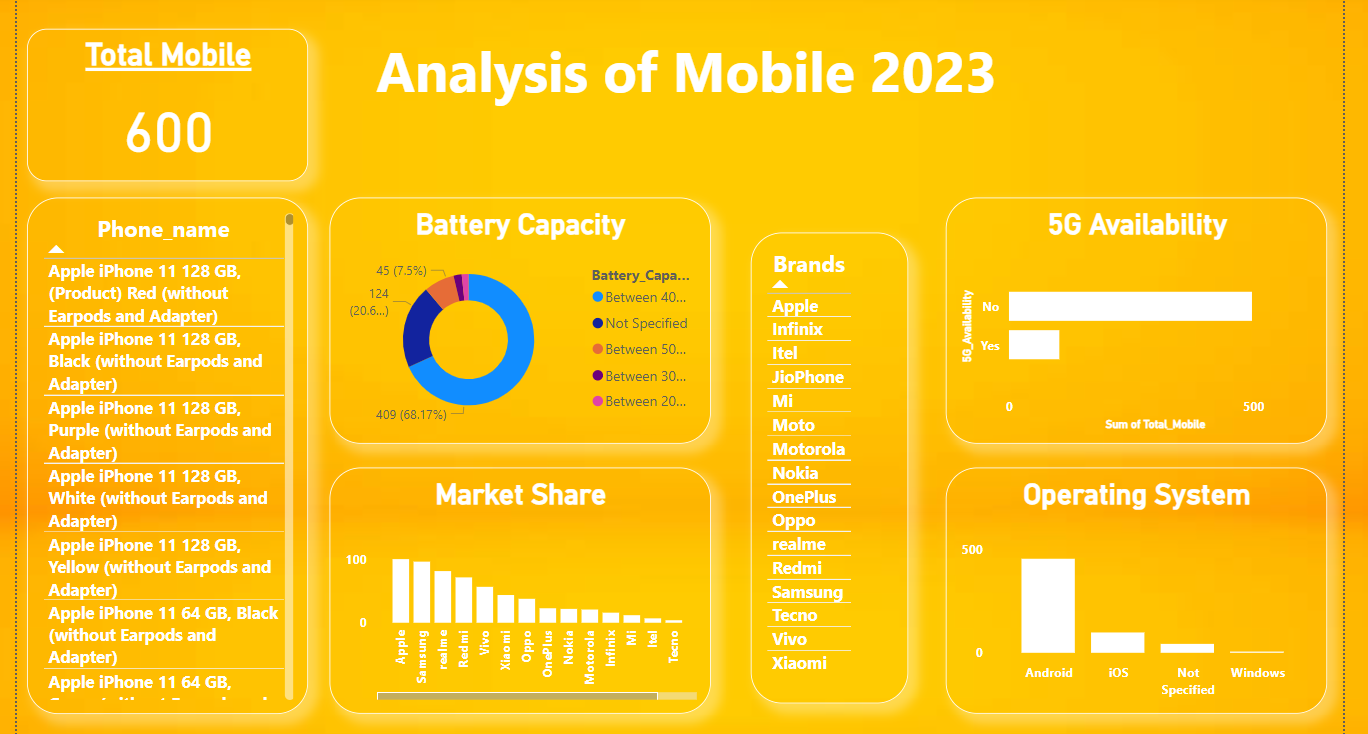

This screenshot's page, from the dashboard's own definition file:
{"tool":"powerbi","page":{"name":"Page 1","canvas":[1280,720],"ordinal":0},"visuals":[{"type":"card","title":"Total Mobile","fields":{"Values":["Sum(mobile_analysis mobile.Total_Mobile)"]},"box":[9.6,32.6,271.4,147.1],"z":0},{"type":"tableEx","fields":{"Values":["mobile_analysis mobile.Phone_name"]},"box":[9.6,195.4,271.4,498.1],"z":1000},{"type":"tableEx","fields":{"Values":["mobile_analysis mobile.Brands"]},"box":[707.9,229.1,152,454.7],"z":2000},{"type":"clusteredColumnChart","title":"Operating System","fields":{"Category":["mobile_analysis mobile.Operating_System_Type"],"Y":["Sum(mobile_analysis mobile.Total_Mobile)"]},"box":[896.1,455.9,367.8,237.6],"z":3000},{"type":"donutChart","title":"Battery Capacity","fields":{"Category":["mobile_analysis mobile.Battery_Capacity_Range"],"Y":["Sum(mobile_analysis mobile.Total_Mobile)"]},"box":[301.5,195.4,367.8,237.6],"z":4000},{"type":"barChart","title":"5G Availability","fields":{"Category":["mobile_analysis mobile.5G_Availability"],"Y":["Sum(mobile_analysis mobile.Total_Mobile)"]},"box":[896.1,195.4,367.8,237.6],"z":5000},{"type":"clusteredColumnChart","title":"Market Share","fields":{"Y":["Sum(mobile_analysis mobile.Total_Mobile)"],"Category":["mobile_analysis mobile.Brands"]},"box":[301.5,455.9,367.8,237.6],"z":6000},{"type":"textbox","box":[301.5,31.4,735.7,106.1],"z":7000}]}

Visuals, with their boxes on the page's 1280x720 design canvas (x1, y1, x2, y2). These are canvas units, not pixel positions in the 1368x734 screenshot, which may show the page scaled, cropped or inside an application window:
"Total Mobile" card: detection(10, 33, 281, 180)
tableEx - mobile_analysis mobile.Phone_name: detection(10, 195, 281, 694)
tableEx - mobile_analysis mobile.Brands: detection(708, 229, 860, 684)
"Operating System" clusteredColumnChart: detection(896, 456, 1264, 694)
"Battery Capacity" donutChart: detection(302, 195, 669, 433)
"5G Availability" barChart: detection(896, 195, 1264, 433)
"Market Share" clusteredColumnChart: detection(302, 456, 669, 694)
textbox: detection(302, 31, 1037, 138)
